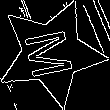M_E: (21, 25, 81, 81)
